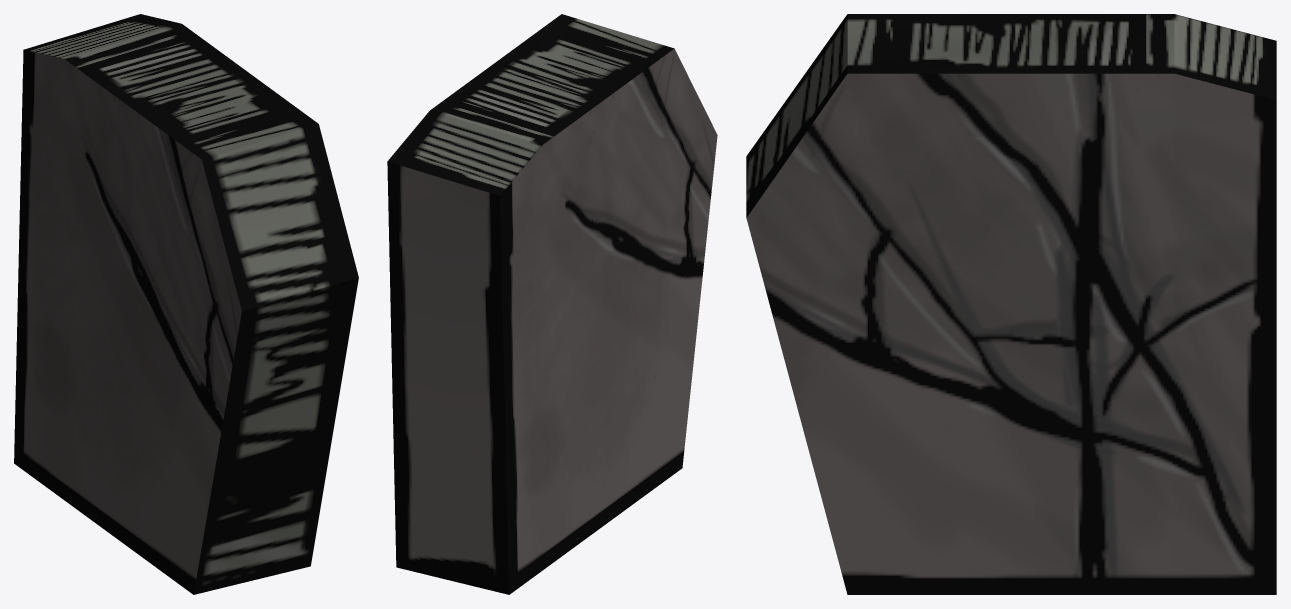
The model's file is tombstone_04_gib1.fbx.
3 renders of one model, left to right at view 1: azimuth 30°, elevation 25°; view 2: azimuth 150°, elevation 25°; view 3: azimuth 270°, elevation 25°, orthographic. The views are drawn at different scales.
Parts seen in each view (by area): view 1: tombstone_04_gib1; view 2: tombstone_04_gib1; view 3: tombstone_04_gib1.
Boxes of the visible parts, x1,y1,x2,y2 form: tombstone_04_gib1: (14,14,358,594); tombstone_04_gib1: (387,14,717,594); tombstone_04_gib1: (746,14,1276,594).
Bounding box in the file's own units: 1.08 × 3.59 × 3.28.
